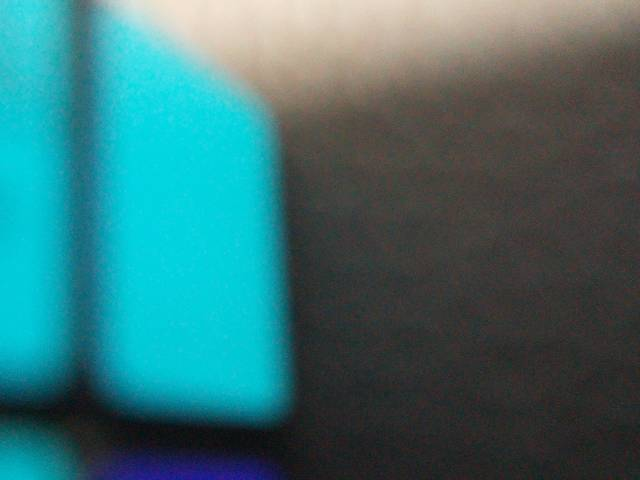boulder: (0, 0, 48, 49)
